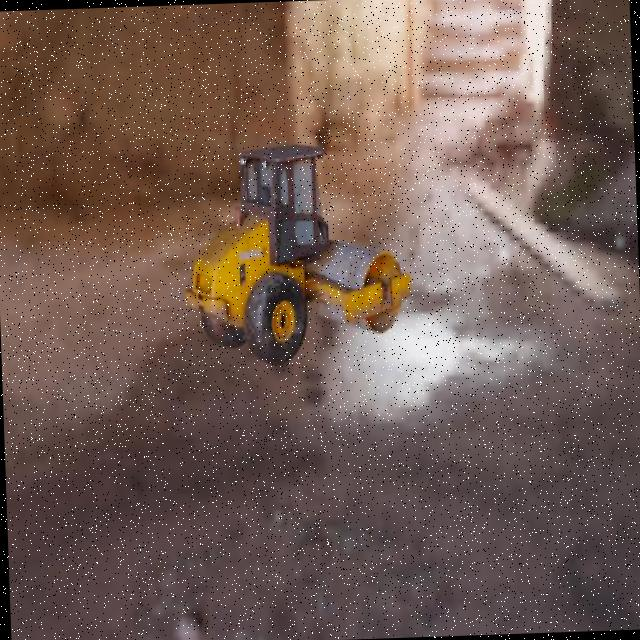Roller: (178, 140, 412, 368)
